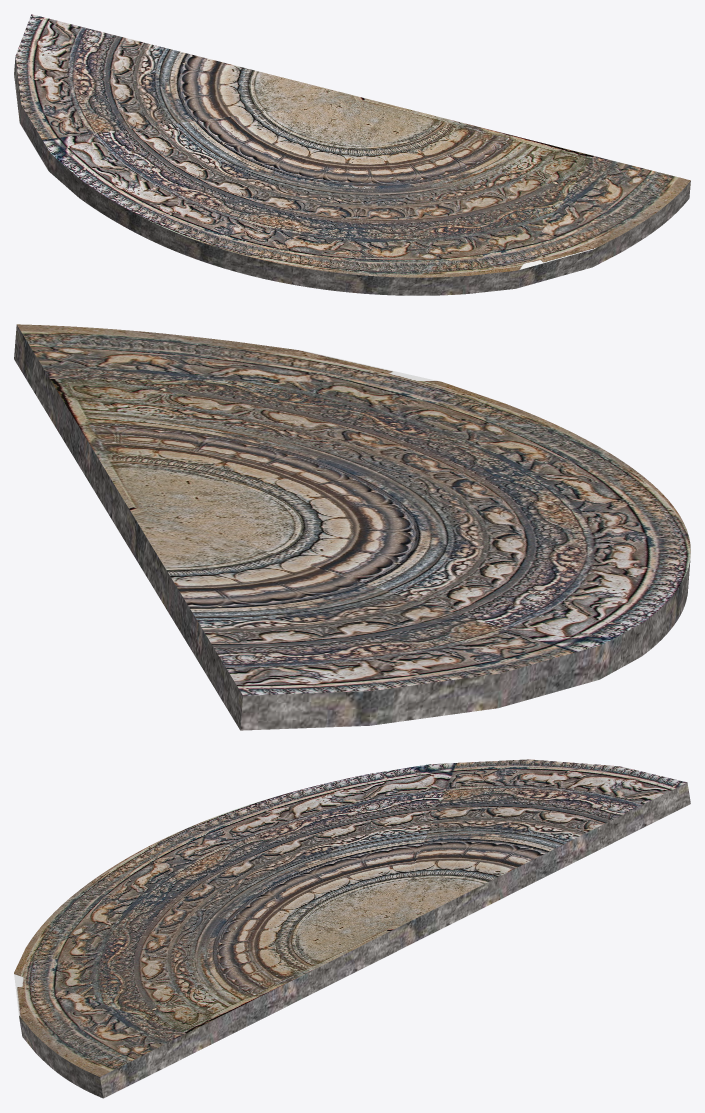
File: moonstone.glb
The picture shows the model from 3 angles, top to bottom: view 1: azimuth 30°, elevation 25°; view 2: azimuth 150°, elevation 25°; view 3: azimuth 270°, elevation 25°; orthographic projection. The views are drawn at different scales.
Parts seen in each view (by area): view 1: node_id9_3; view 2: node_id9_3; view 3: node_id9_3.
Part boxes in pixels (x1,y1,x2,y2): node_id9_3: [14, 14, 690, 295]; node_id9_3: [14, 324, 690, 730]; node_id9_3: [14, 759, 690, 1098].
Bounding box in the file's own units: 0.4154 × 0.0805 × 0.4423.
2 materials, 2 textured.
